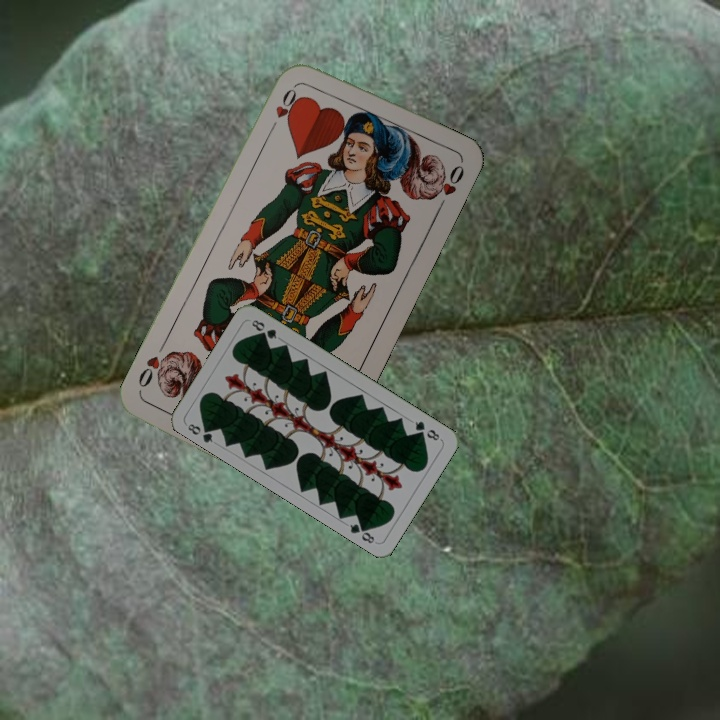G8: (184, 419, 216, 445), (411, 417, 442, 443)
HO: (265, 80, 301, 134)
